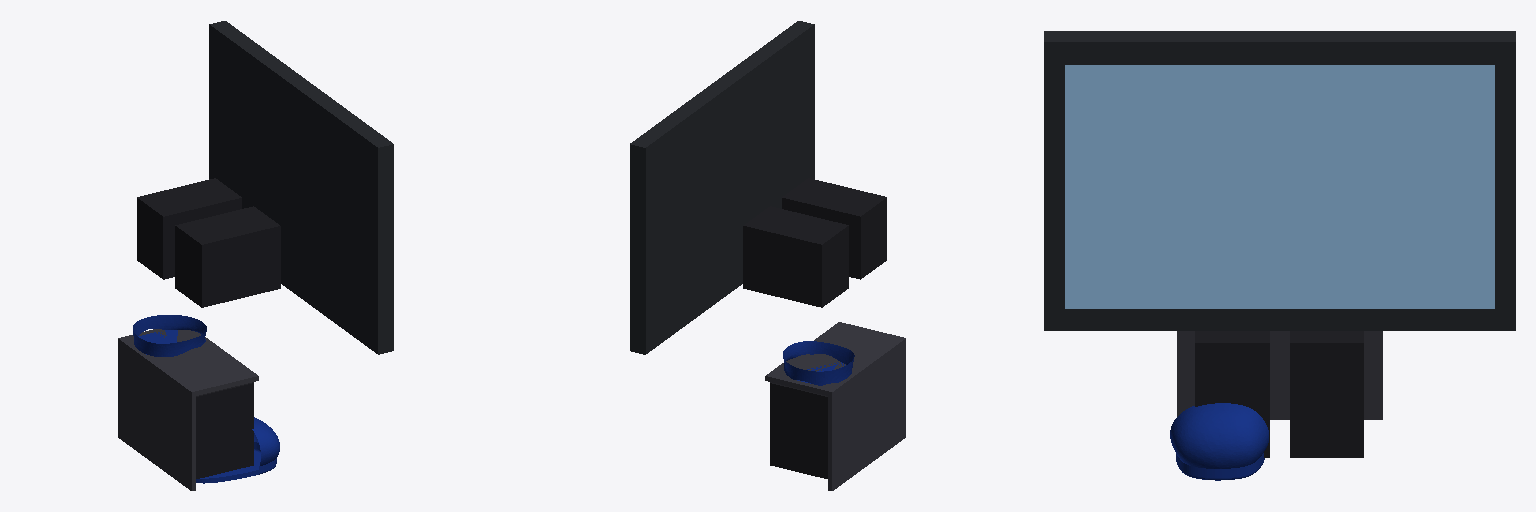
robot.urdf — haetburi:
<?xml version="1.0"?>
<!-- Haetburi biped (v14_xl330) - generated by tools/build_model.py, do not edit by hand -->
<robot name="haetburi">
  <mujoco>
    <compiler meshdir="." balanceinertia="true" discardvisual="false" strippath="false" fusestatic="false"/>
  </mujoco>
  <material name="display"><color rgba="0.18 0.19 0.21 1"/></material>
  <material name="screen"><color rgba="0.62 0.80 0.95 1"/></material>
  <material name="shell"><color rgba="0.106 0.216 0.541 1"/></material>
  <material name="motor"><color rgba="0.15 0.15 0.17 1"/></material>
  <material name="foot"><color rgba="0.25 0.25 0.28 1"/></material>
  <link name="world"/>
  <joint name="floating_base" type="floating">
    <parent link="world"/><child link="pelvis"/>
    <origin xyz="0 0 0" rpy="0 0 0"/>
  </joint>
  <link name="pelvis">
    <inertial>
      <origin xyz="0.0102251 -2.48257e-05 0.0204335" rpy="0 0 0"/>
      <mass value="0.178941"/>
      <inertia ixx="3.86829e-05" ixy="-1.9007e-08" ixz="-2.25637e-06" iyy="3.43635e-05" iyz="5.1029e-08" izz="2.65348e-05"/>
    </inertial>
    <visual><origin xyz="0 0 0" rpy="0 0 0"/><geometry><mesh filename="meshes/pelvis.stl"/></geometry><material name="shell"/></visual>
    <visual><origin xyz="0.00880154 0.014294 0.039" rpy="0 0 0"/><geometry><box size="0.034 0.02 0.026"/></geometry><material name="motor"/></visual>
    <visual><origin xyz="0.00879846 -0.0144704 0.039" rpy="0 0 0"/><geometry><box size="0.034 0.02 0.026"/></geometry><material name="motor"/></visual>
    <collision><origin xyz="0.00435977 -8.54132e-05 0.01525" rpy="0 0 0"/><geometry><box size="0.0522715 0.0694135 0.0305"/></geometry></collision>
  </link>
  <link name="torso">
    <inertial>
      <origin xyz="0.0129476 6.00365e-05 0.0748794" rpy="0 0 0"/>
      <mass value="0.432258"/>
      <inertia ixx="0.00242443" ixy="-6.96654e-06" ixz="0.000445582" iyy="0.00243868" iyz="-6.73997e-06" izz="0.00131875"/>
    </inertial>
    <visual><origin xyz="0 0 0" rpy="0 0 0"/><geometry><mesh filename="meshes/torso.stl"/></geometry><material name="shell"/></visual>
    <visual><origin xyz="0.0490515 0 0.0218935" rpy="0 0 0"/><geometry><box size="0.0069 0.1263 0.08538"/></geometry><material name="display"/></visual>
    <visual><origin xyz="0.0525015 0 0.0218935" rpy="0 0 0"/><geometry><box size="0.0004 0.1152 0.072"/></geometry><material name="screen"/></visual>
    <collision><origin xyz="-0.0227744 -1.06019e-06 0.016802" rpy="0 0 0"/><geometry><box size="0.1069 0.072486 0.0713833"/></geometry></collision>
    <collision><origin xyz="0.02781 0.056147 0.0338574" rpy="0 0 0"/><geometry><sphere radius="0.0406143"/></geometry></collision>
    <collision><origin xyz="0.0280023 -0.056233 0.0338574" rpy="0 0 0"/><geometry><sphere radius="0.0405753"/></geometry></collision>
    <collision><origin xyz="-0.00349062 0.000178514 0.0685432" rpy="0 0 0"/><geometry><sphere radius="0.0696616"/></geometry></collision>
    <collision><origin xyz="-0.00608253 -8.20715e-05 0.100621" rpy="0 0 0"/><geometry><sphere radius="0.0803688"/></geometry></collision>
    <collision><origin xyz="-0.00926197 -0.000135456 0.132704" rpy="0 0 0"/><geometry><sphere radius="0.0794379"/></geometry></collision>
    <collision><origin xyz="-0.00726599 0.000572212 0.164785" rpy="0 0 0"/><geometry><sphere radius="0.0690742"/></geometry></collision>
    <collision><origin xyz="-0.00429951 0.00452922 0.196886" rpy="0 0 0"/><geometry><sphere radius="0.049234"/></geometry></collision>
    <collision><origin xyz="-0.00787944 -0.00149701 0.228959" rpy="0 0 0"/><geometry><sphere radius="0.0285719"/></geometry></collision>
    <collision><origin xyz="0.0490515 0 0.0218935" rpy="0 0 0"/><geometry><box size="0.0069 0.1263 0.08538"/></geometry></collision>
  </link>
  <link name="leg_l">
    <inertial>
      <origin xyz="-0.000228568 5.22364e-05 -0.01937" rpy="0 0 0"/>
      <mass value="0.017889"/>
      <inertia ixx="4.04044e-06" ixy="-1.48018e-09" ixz="5.59508e-08" iyy="2.5032e-06" iyz="-1.1183e-08" izz="2.87428e-06"/>
    </inertial>
    <visual><origin xyz="0 0 0" rpy="0 0 0"/><geometry><mesh filename="meshes/leg_l.stl"/></geometry><material name="shell"/></visual>
    <visual><origin xyz="-0.0135118 -0.00170548 -0.0264625" rpy="0 0 0"/><geometry><box size="0.002 0.03 0.040925"/></geometry><material name="foot"/></visual>
    <visual><origin xyz="-1.18124e-05 -0.00170548 -0.007" rpy="0 0 0"/><geometry><box size="0.029 0.03 0.002"/></geometry><material name="foot"/></visual>
    <collision><origin xyz="-3.30698e-07 -4.55896e-06 -0.003" rpy="0 0 0"/><geometry><box size="0.0272667 0.0249809 0.006"/></geometry></collision>
  </link>
  <link name="foot_l">
    <inertial>
      <origin xyz="0.0024567 0.000596389 0.00625183" rpy="0 0 0"/>
      <mass value="0.0221972"/>
      <inertia ixx="3.36369e-06" ixy="-1.56401e-07" ixz="4.93467e-07" iyy="4.49744e-06" iyz="1.39435e-07" izz="2.86245e-06"/>
    </inertial>
    <visual><origin xyz="0 0 0" rpy="0 0 0"/><geometry><mesh filename="meshes/foot_l.stl"/></geometry><material name="shell"/></visual>
    <visual><origin xyz="1.11022e-18 0 0.0088" rpy="0 0 0"/><geometry><box size="0.026 0.02 0.034"/></geometry><material name="motor"/></visual>
    <collision><origin xyz="0 0 0" rpy="0 0 0"/><geometry><mesh filename="meshes/foot_l.stl"/></geometry></collision>
    <collision><origin xyz="1.11022e-18 0 0.0088" rpy="0 0 0"/><geometry><box size="0.026 0.02 0.034"/></geometry></collision>
  </link>
  <link name="leg_r">
    <inertial>
      <origin xyz="-6.65115e-05 2.66259e-05 -0.0190534" rpy="0 0 0"/>
      <mass value="0.0183209"/>
      <inertia ixx="4.13826e-06" ixy="-1.51045e-08" ixz="1.7158e-08" iyy="2.58298e-06" iyz="-7.83823e-09" izz="2.89977e-06"/>
    </inertial>
    <visual><origin xyz="0 0 0" rpy="0 0 0"/><geometry><mesh filename="meshes/leg_r.stl"/></geometry><material name="shell"/></visual>
    <visual><origin xyz="-0.0135087 0.00174446 -0.0264625" rpy="0 0 0"/><geometry><box size="0.002 0.03 0.040925"/></geometry><material name="foot"/></visual>
    <visual><origin xyz="-8.73321e-06 0.00174446 -0.007" rpy="0 0 0"/><geometry><box size="0.029 0.03 0.002"/></geometry><material name="foot"/></visual>
    <collision><origin xyz="7.89744e-07 7.22738e-06 -0.003" rpy="0 0 0"/><geometry><box size="0.0272447 0.025029 0.006"/></geometry></collision>
  </link>
  <link name="foot_r">
    <inertial>
      <origin xyz="0.00243997 -0.000605829 0.00625465" rpy="0 0 0"/>
      <mass value="0.0221825"/>
      <inertia ixx="3.36414e-06" ixy="1.58163e-07" ixz="4.91329e-07" iyy="4.48722e-06" iyz="-1.42321e-07" izz="2.85375e-06"/>
    </inertial>
    <visual><origin xyz="0 0 0" rpy="0 0 0"/><geometry><mesh filename="meshes/foot_r.stl"/></geometry><material name="shell"/></visual>
    <visual><origin xyz="1.11022e-18 0 0.0088" rpy="0 0 0"/><geometry><box size="0.026 0.02 0.034"/></geometry><material name="motor"/></visual>
    <collision><origin xyz="0 0 0" rpy="0 0 0"/><geometry><mesh filename="meshes/foot_r.stl"/></geometry></collision>
    <collision><origin xyz="1.11022e-18 0 0.0088" rpy="0 0 0"/><geometry><box size="0.026 0.02 0.034"/></geometry></collision>
  </link>
  <joint name="waist_fixed" type="fixed">
    <parent link="pelvis"/><child link="torso"/>
    <origin xyz="0 0 0.0305" rpy="0 0 0"/>
  </joint>
  <joint name="hip_yaw_l" type="revolute">
    <parent link="pelvis"/><child link="leg_l"/>
    <origin xyz="1.53959e-06 0.014294 0" rpy="0 0 0"/>
    <axis xyz="0 0 1"/>
    <limit lower="-0.523599" upper="0.523599" effort="0.52" velocity="10.79"/>
    <dynamics damping="0.037142857142857144" friction="0.014857142857142859"/>
  </joint>
  <joint name="hip_yaw_r" type="revolute">
    <parent link="pelvis"/><child link="leg_r"/>
    <origin xyz="-1.53959e-06 -0.0144704 0" rpy="0 0 0"/>
    <axis xyz="0 0 1"/>
    <limit lower="-0.523599" upper="0.523599" effort="0.52" velocity="10.79"/>
    <dynamics damping="0.037142857142857144" friction="0.014857142857142859"/>
  </joint>
  <joint name="ankle_roll_l" type="revolute">
    <parent link="leg_l"/><child link="foot_l"/>
    <origin xyz="0.00248819 -0.00170548 -0.036925" rpy="0 0 0"/>
    <axis xyz="1 0 0"/>
    <limit lower="-0.261799" upper="0.261799" effort="0.52" velocity="10.79"/>
    <dynamics damping="0.037142857142857144" friction="0.014857142857142859"/>
  </joint>
  <joint name="ankle_roll_r" type="revolute">
    <parent link="leg_r"/><child link="foot_r"/>
    <origin xyz="0.00249127 0.00174446 -0.036925" rpy="0 0 0"/>
    <axis xyz="1 0 0"/>
    <limit lower="-0.261799" upper="0.261799" effort="0.52" velocity="10.79"/>
    <dynamics damping="0.037142857142857144" friction="0.014857142857142859"/>
  </joint>
</robot>

--- Facts derived from the render (not from the file) ---
Views: 3 orthographic renders of the robot side by side, from view 1: azimuth 30°, elevation 25°; view 2: azimuth 150°, elevation 25°; view 3: azimuth 270°, elevation 25°.
Model haetburi with 7 links and 6 joints (4 revolute, 1 fixed, 1 floating), rooted at world, posed all joints at 0.
Links seen in each view (by area): view 1: torso, pelvis, leg_l, leg_r, foot_r; view 2: torso, pelvis, leg_l, leg_r, foot_l; view 3: torso, foot_r, foot_l, leg_r, leg_l.
Boxes of the visible links, x1,y1,x2,y2 form: torso: [209, 21, 393, 354]; pelvis: [137, 178, 280, 307]; leg_l: [118, 315, 223, 465]; leg_r: [154, 347, 258, 490]; foot_r: [196, 382, 279, 483]; torso: [630, 21, 814, 354]; pelvis: [743, 178, 886, 307]; leg_l: [765, 341, 872, 490]; leg_r: [814, 322, 905, 460]; foot_l: [770, 382, 827, 478]; torso: [1044, 31, 1515, 330]; foot_r: [1170, 331, 1269, 480]; foot_l: [1290, 331, 1363, 457]; leg_r: [1177, 331, 1287, 419]; leg_l: [1288, 331, 1382, 419].
Size in the robot's own frame: 0.0672 by 0.1263 by 0.1422 metres.
2 mesh visuals loaded from 6 distinct referenced files (2 binary STL); not drawn: 4 (reference not matched to a file when rendering).
